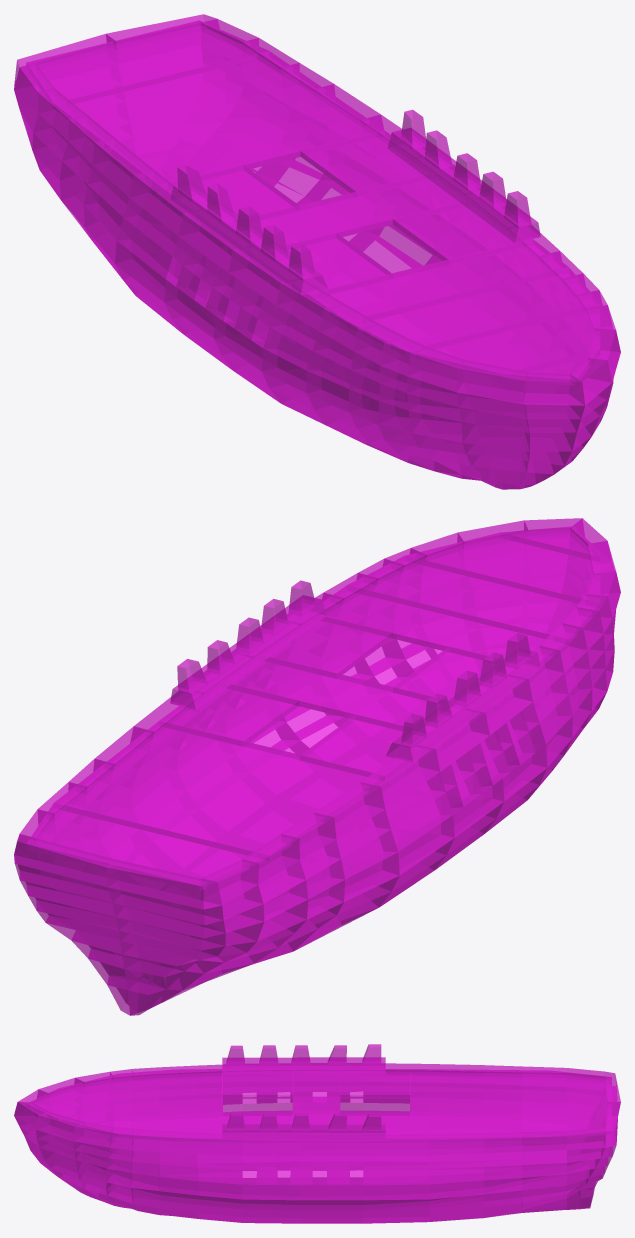
File: SM_Veh_Ship_L_Hull_03_Collision.fbx
3 renders of one model, top to bottom at view 1: azimuth 30°, elevation 25°; view 2: azimuth 150°, elevation 25°; view 3: azimuth 270°, elevation 25°, orthographic. The views are drawn at different scales.
Visible parts, largest first — view 1: SM_Veh_Ship_L_Hull_03_Collision; view 2: SM_Veh_Ship_L_Hull_03_Collision; view 3: SM_Veh_Ship_L_Hull_03_Collision.
Part boxes in pixels (<box>): SM_Veh_Ship_L_Hull_03_Collision: <box>14,14,620,489</box>; SM_Veh_Ship_L_Hull_03_Collision: <box>14,518,620,1015</box>; SM_Veh_Ship_L_Hull_03_Collision: <box>14,1044,620,1223</box>.
Size of the model in its own units: 1280 by 891 by 3656.
